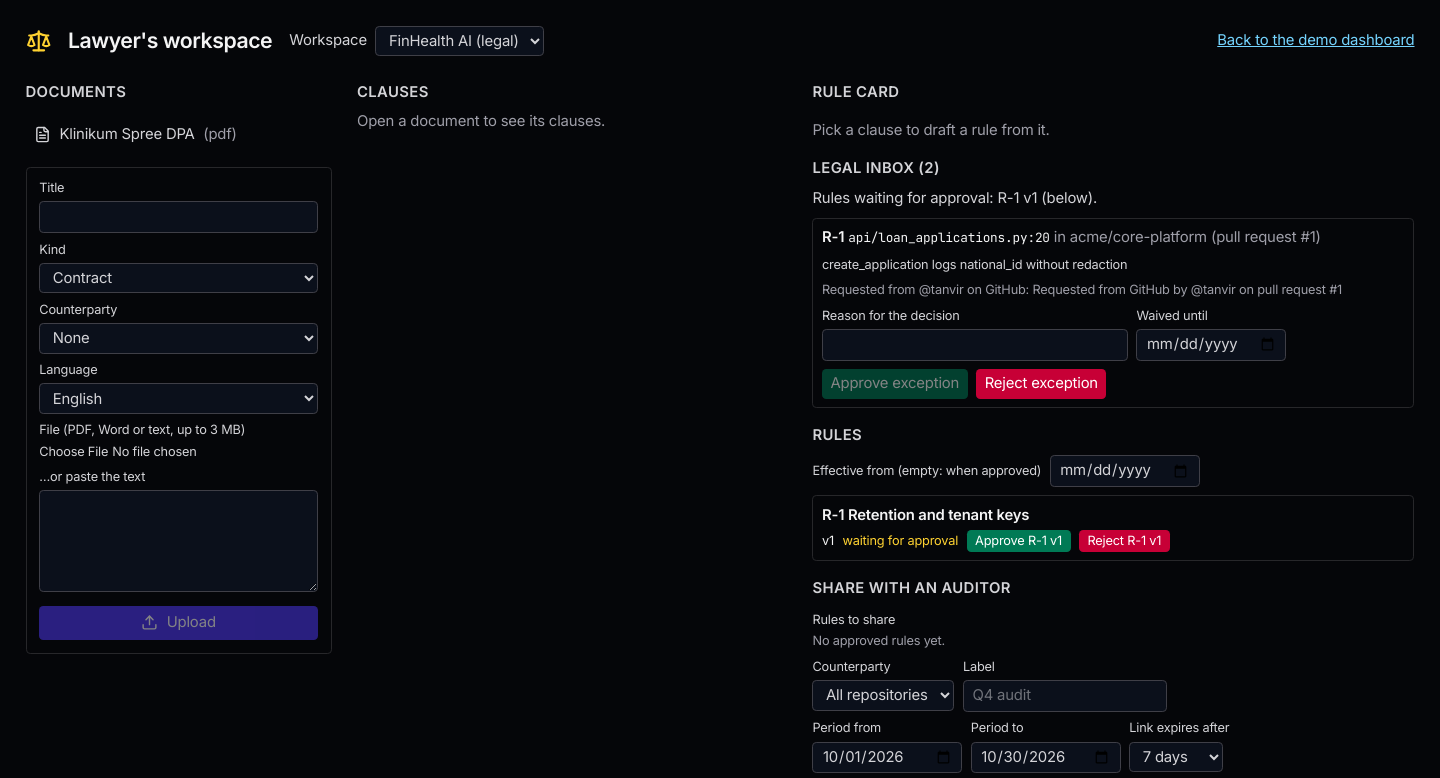
Test: lawyer's workspace › opens a document, shows skipped clauses, and builds the card for §4.2 with highlights and impact
Click the button "Klinikum Spree DPA (pdf)" at [178, 135], box [26,120,332,150]
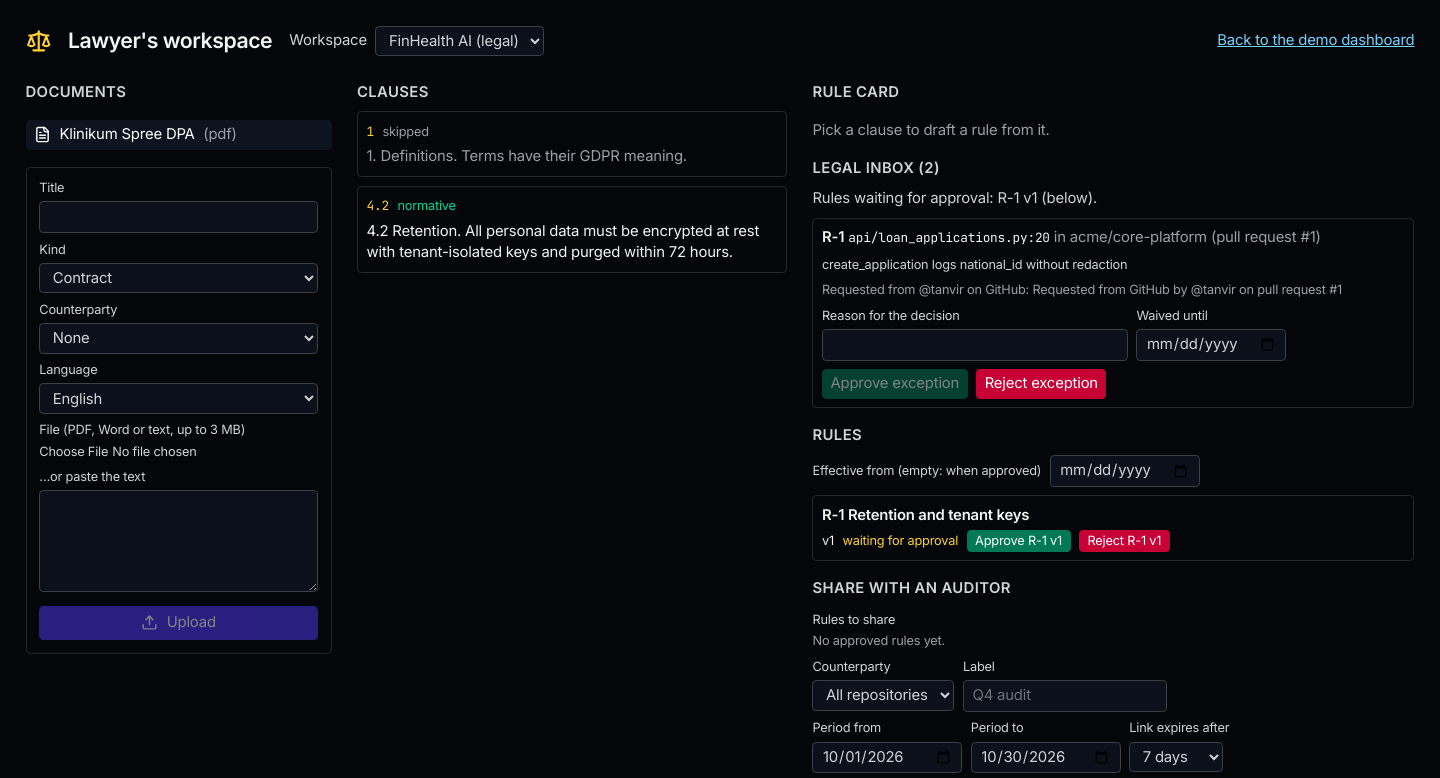
Now the button with aria-label "Clause 1 (not normative, skipped)" is shown, box [357,111,787,177]
Click the button with aria-label "Clause 4.2" at [572, 229], box [357,186,787,272]
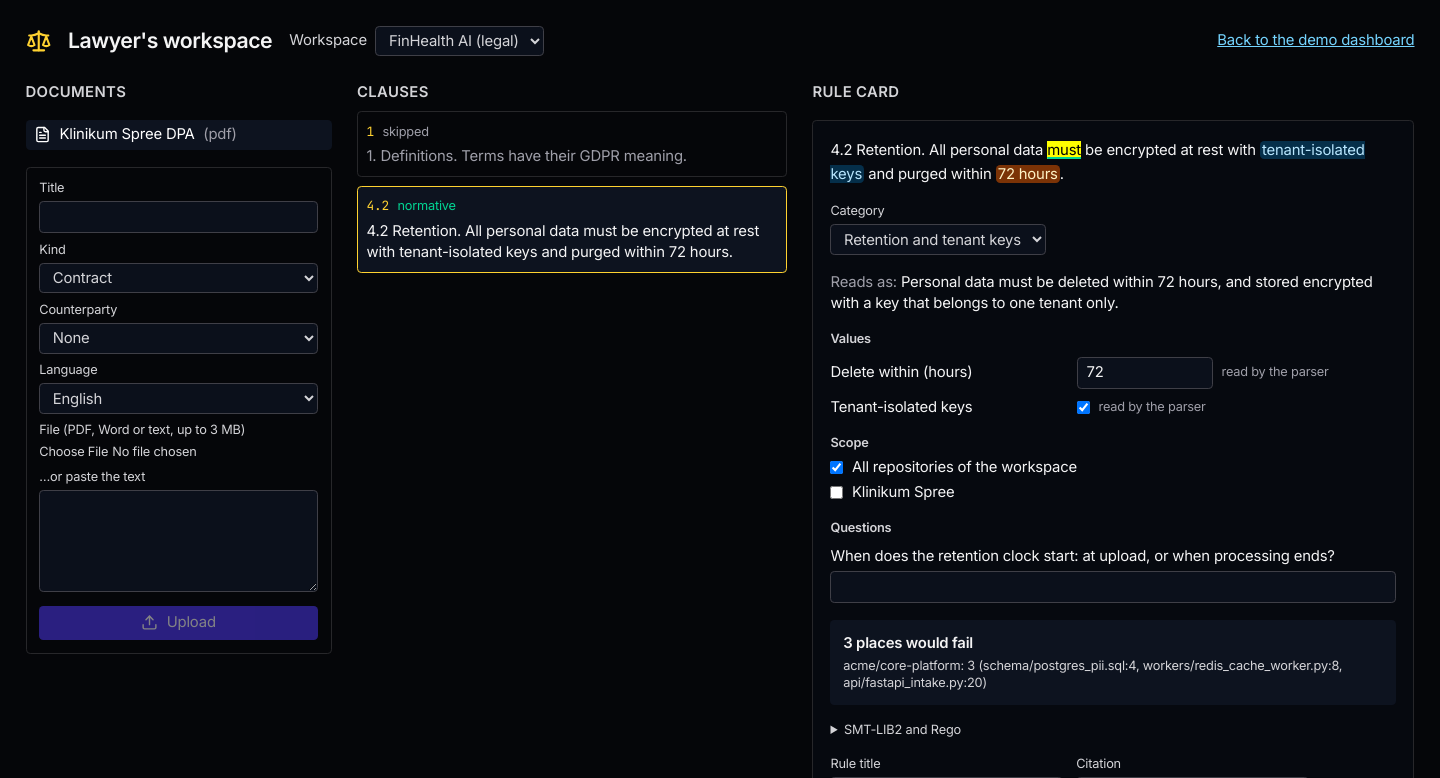
Now the dropdown labelled "Category" shows "Retention and tenant keys", box [830,224,1046,255]
Now the number field labelled "Delete within (hours) read by the parser" holds "72", box [1077,357,1213,389]
Now the text "When does the retention clock start: at upload, or when processing ends?" is shown, box [830,546,1396,603]
